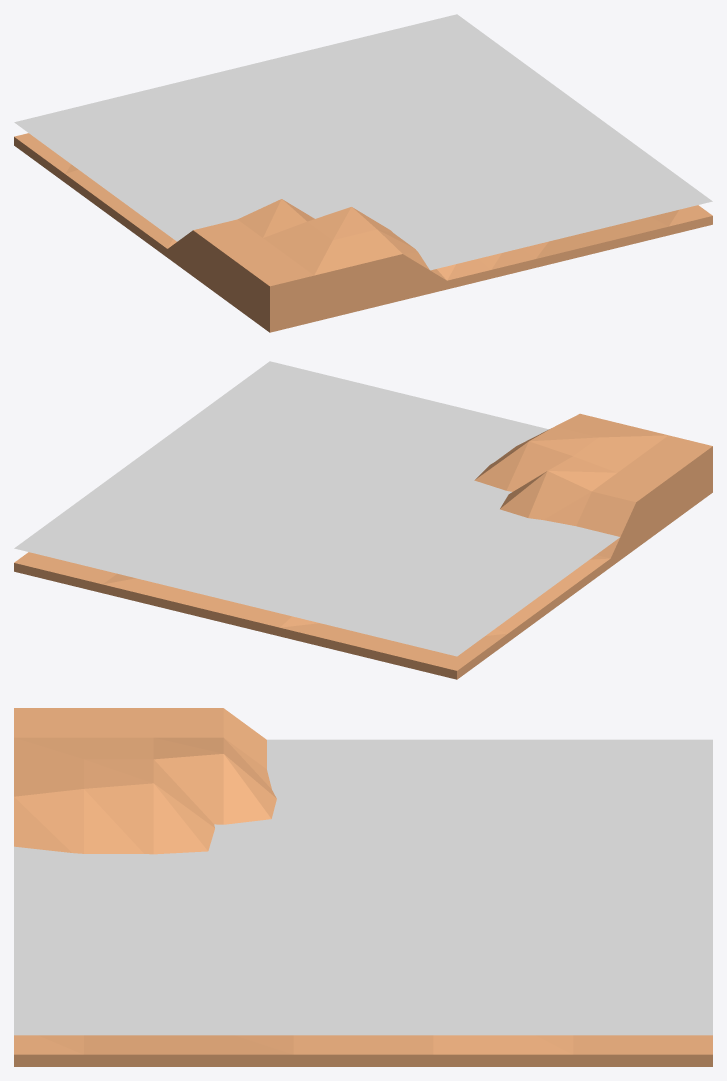
Rendered from waterCornerInverse.fbx.
3 views of the same model, one above another, from view 1: azimuth 30°, elevation 25°; view 2: azimuth 150°, elevation 25°; view 3: azimuth 270°, elevation 25° (orthographic). The views are drawn at different scales.
Visible parts, largest first — view 1: Plane_1, Cube_1; view 2: Plane_1, Cube_1; view 3: Plane_1, Cube_1.
Boxes of the visible parts, x1,y1,x2,y2 form: Plane_1: [14, 14, 712, 270]; Cube_1: [14, 133, 712, 332]; Plane_1: [14, 361, 619, 656]; Cube_1: [14, 413, 712, 679]; Plane_1: [14, 739, 712, 1035]; Cube_1: [14, 708, 712, 1066].
Size of the model in its own units: 100 by 12.11 by 100.
Materials: 1 (1 with a texture image).
